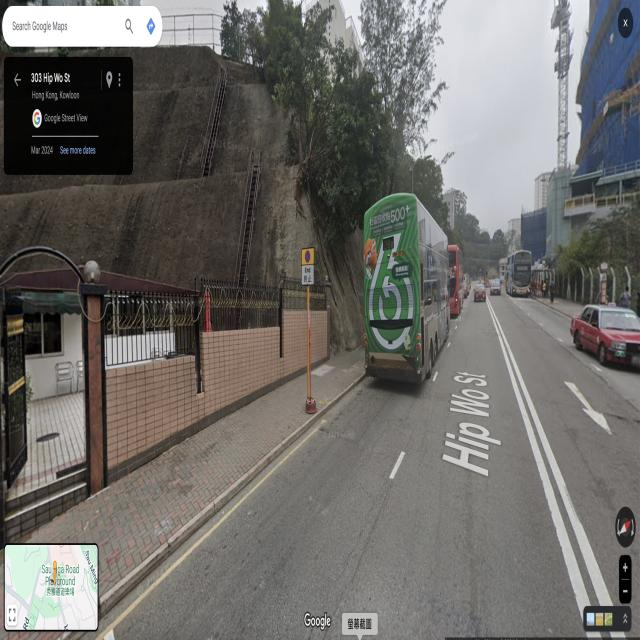Order-Sign: (302, 250, 314, 284)
